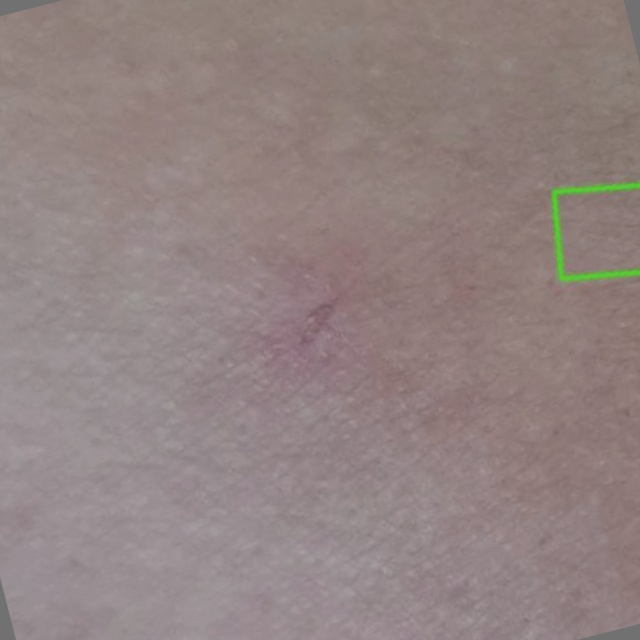Seborrheic Dermatitis: (554, 184, 639, 279)
